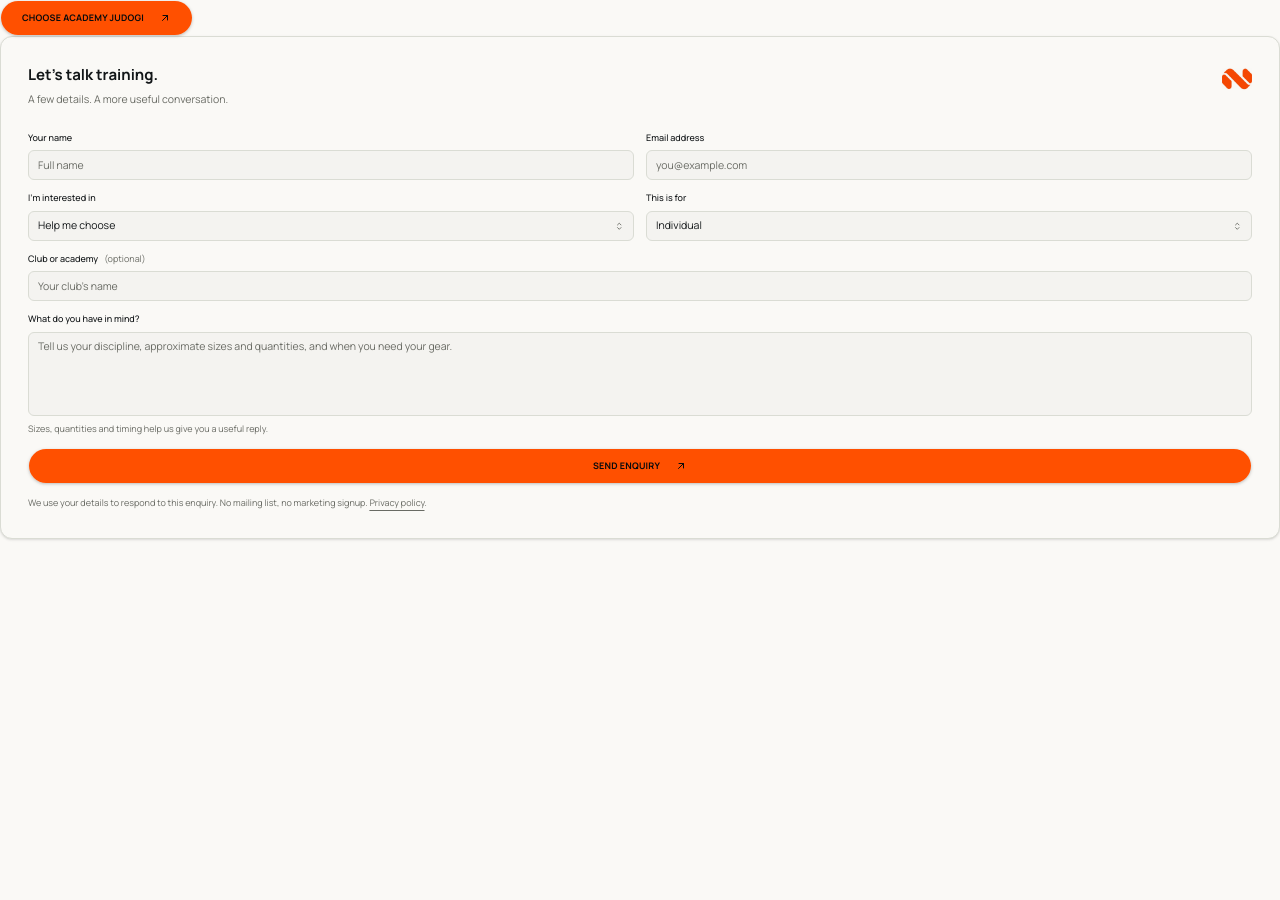
it: inline enquiry form › preserves visitor details when delivery is unavailable
Type "Avery" into the field labelled "Your name" at (331, 165), box left=28, top=150, right=634, bottom=180
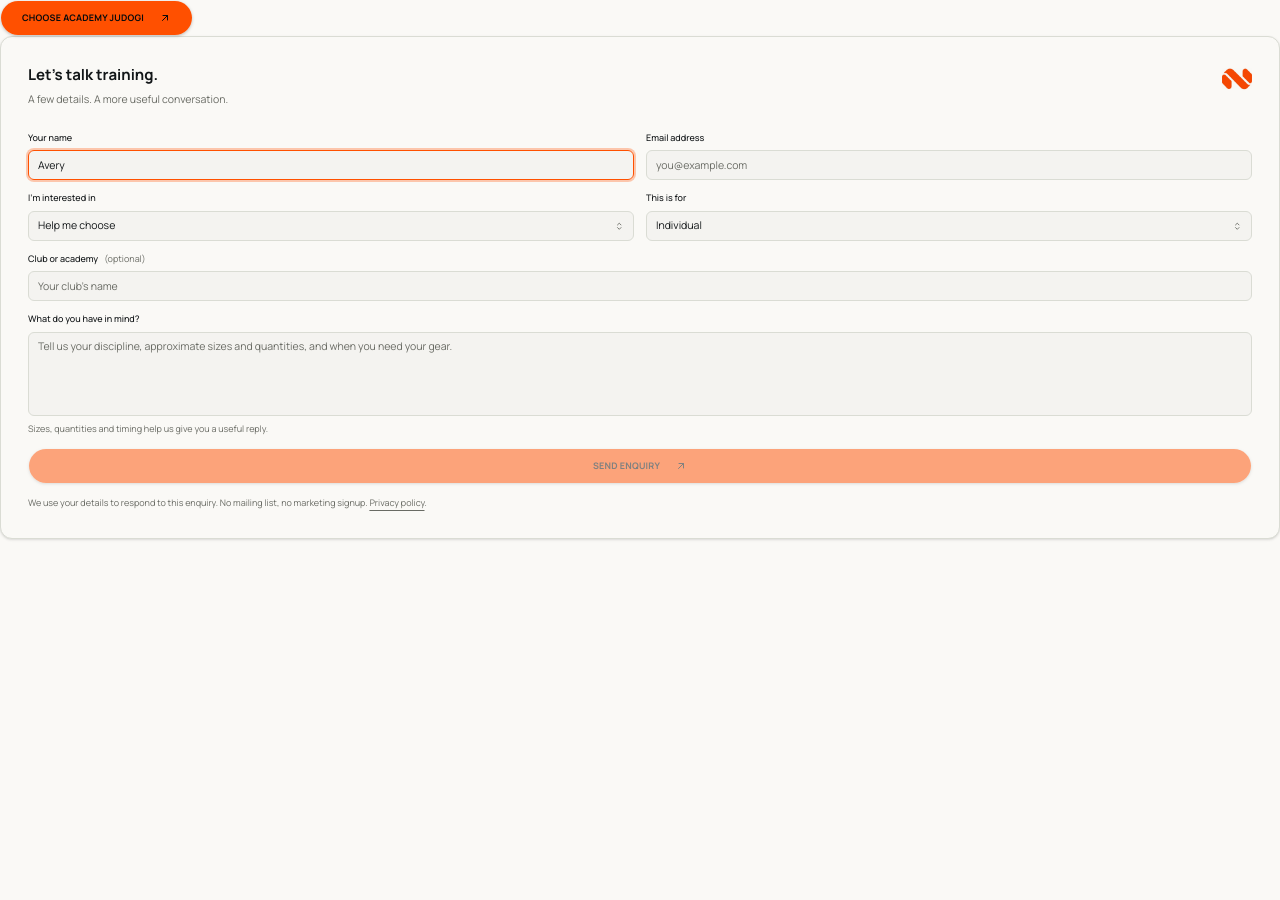
Type "avery@example.com" into the field labelled "Email address" at (949, 165), box left=646, top=150, right=1252, bottom=180
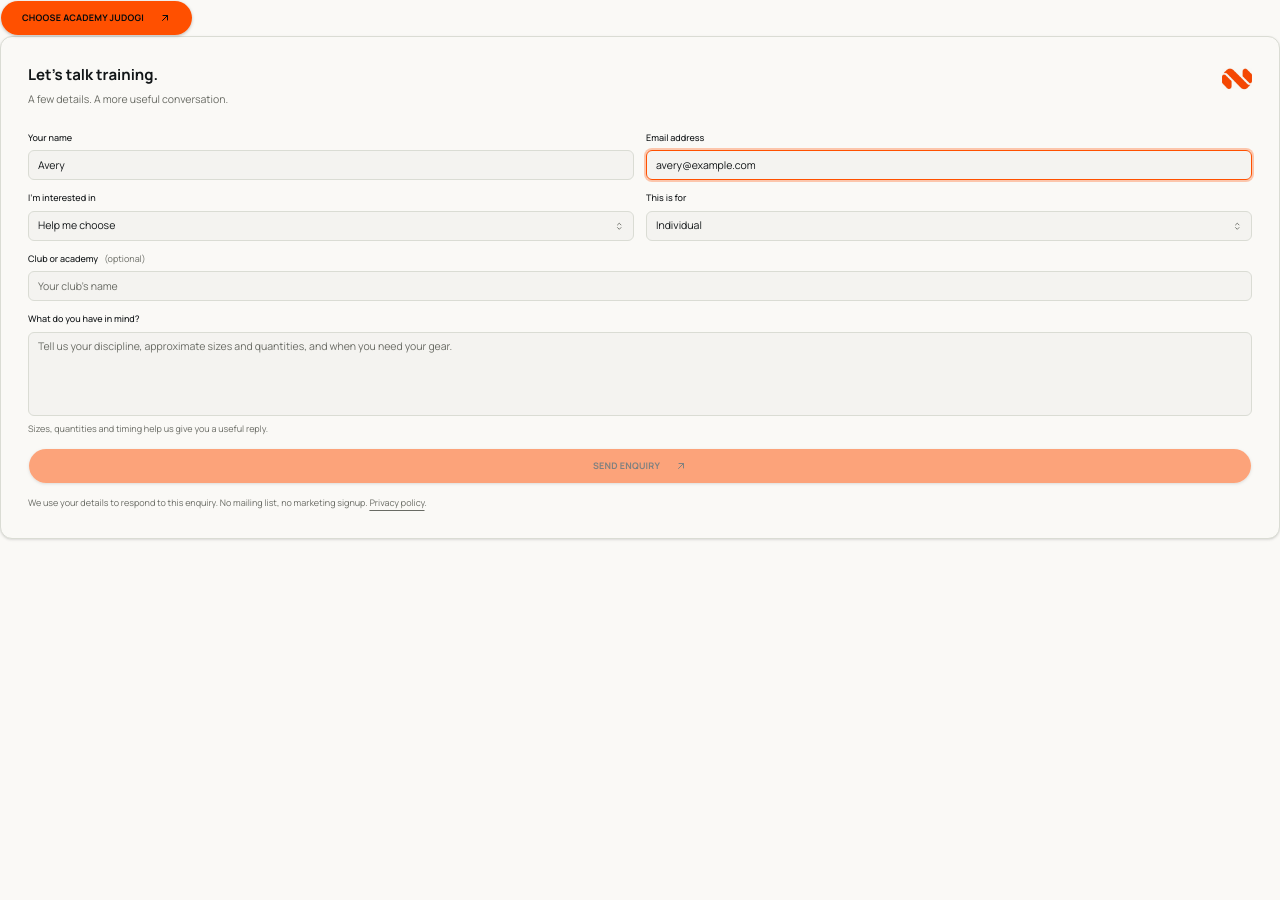
Type "We need twelve judo uniforms for a new academy class." into the text box labelled "What do you have in mind?" at (640, 374), box left=28, top=332, right=1252, bottom=416
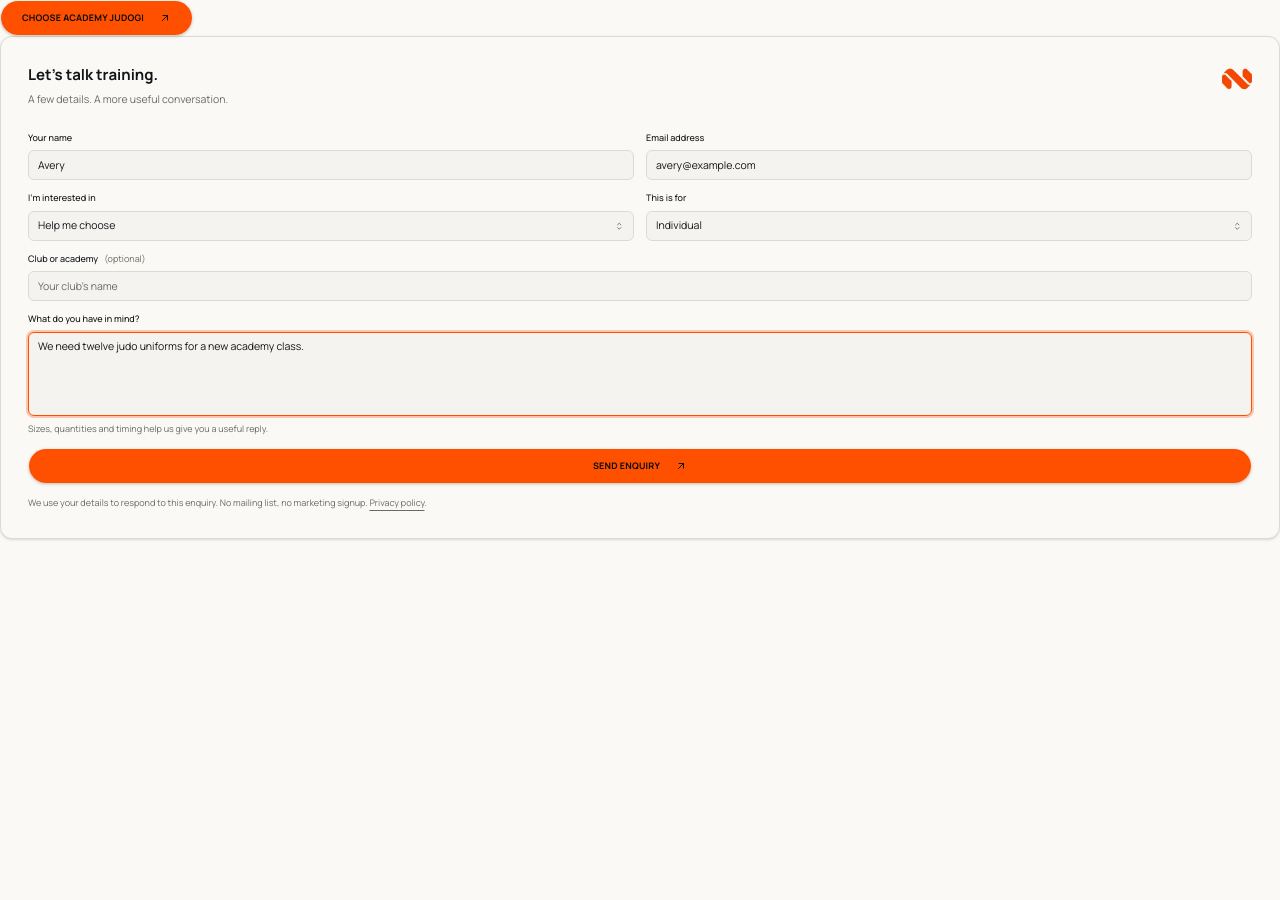
Click the button "Send enquiry" at (640, 466), box left=28, top=448, right=1252, bottom=484
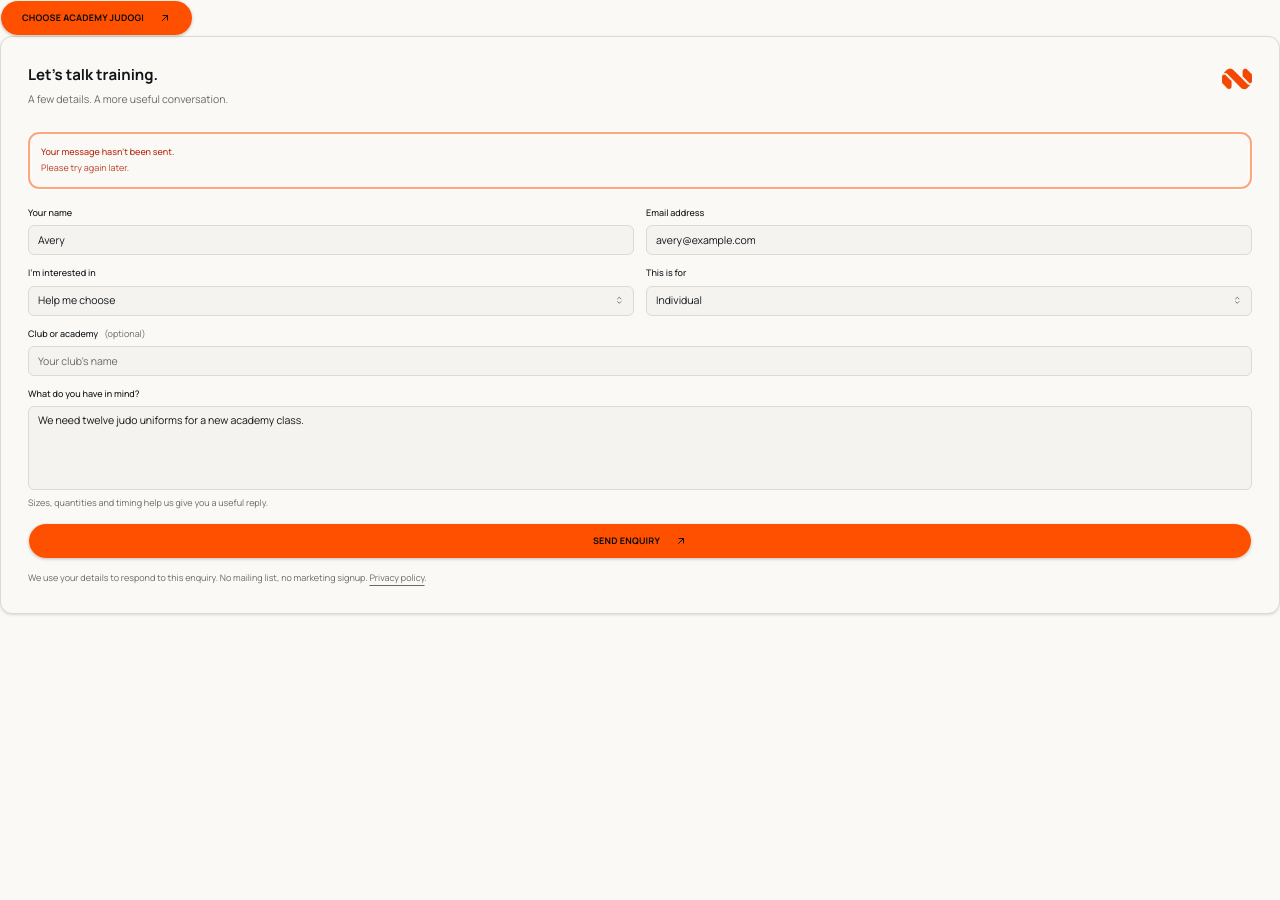
Check: the text "Your message hasn’t been sent." is shown, box left=41, top=145, right=174, bottom=158
